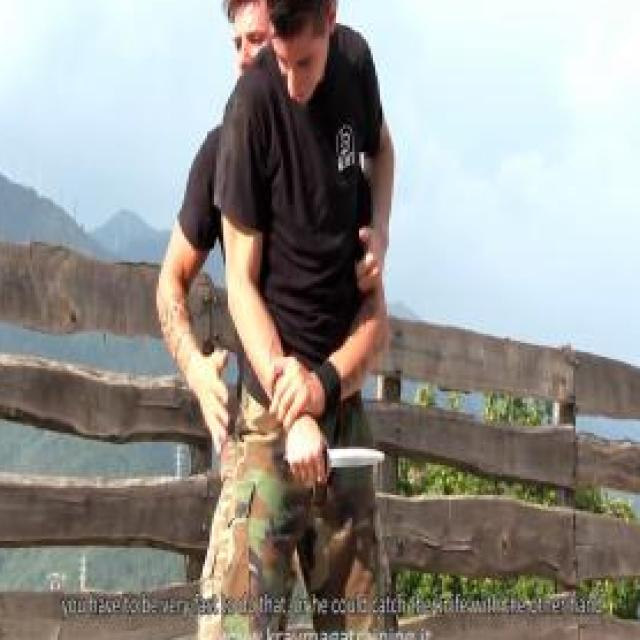knife: (279, 424, 390, 484)
